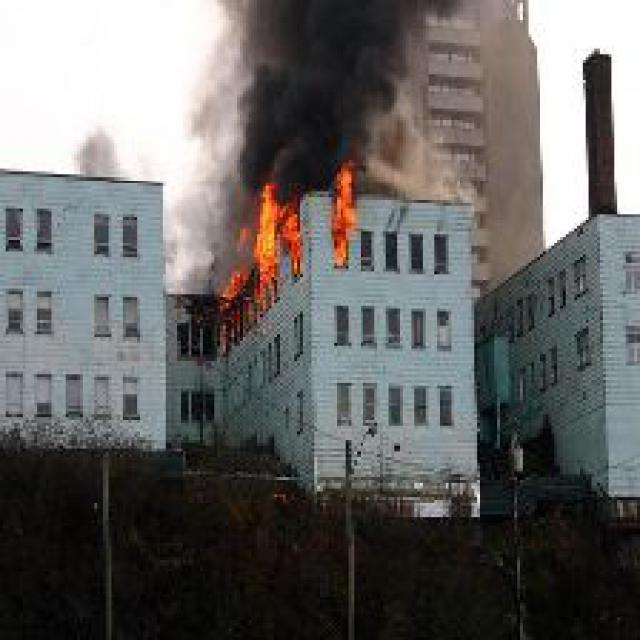fire: (208, 154, 366, 303)
